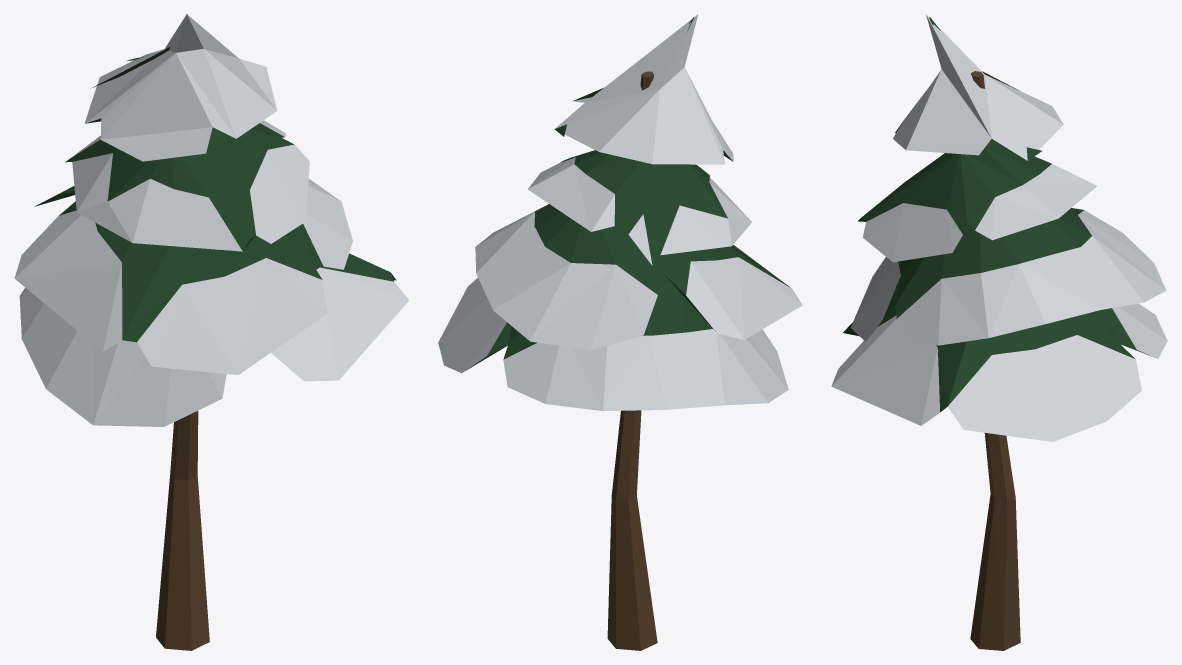
Rendered from pine_winter_2.glb.
3 views of the same model, side by side, from view 1: azimuth 30°, elevation 25°; view 2: azimuth 150°, elevation 25°; view 3: azimuth 270°, elevation 25° (orthographic). The views are drawn at different scales.
Parts seen in each view (by area): view 1: lod0; view 2: lod0; view 3: lod0.
Part boxes in pixels (x1,y1,x2,y2): lod0: [14, 14, 409, 650]; lod0: [438, 14, 802, 650]; lod0: [831, 14, 1167, 650].
Size of what is drawn, in the model's own units: 4.48 by 8.18 by 4.07.
